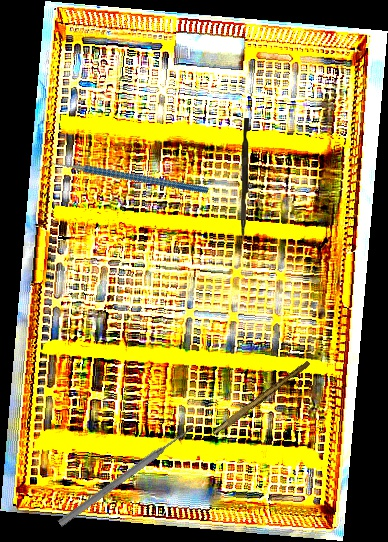Chopper: (37, 110, 210, 249)
Pusher: (56, 422, 198, 529), (241, 118, 249, 241)
Scalpel Handle: (211, 358, 312, 439)
